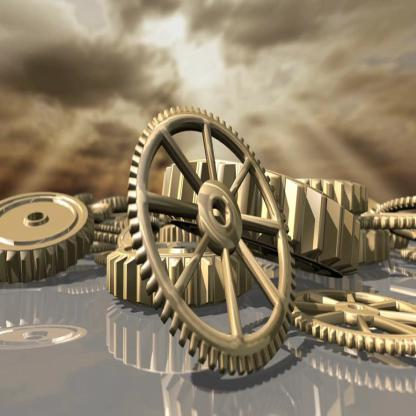FOD: (127, 101, 294, 375), (0, 190, 102, 274), (104, 235, 218, 310)
